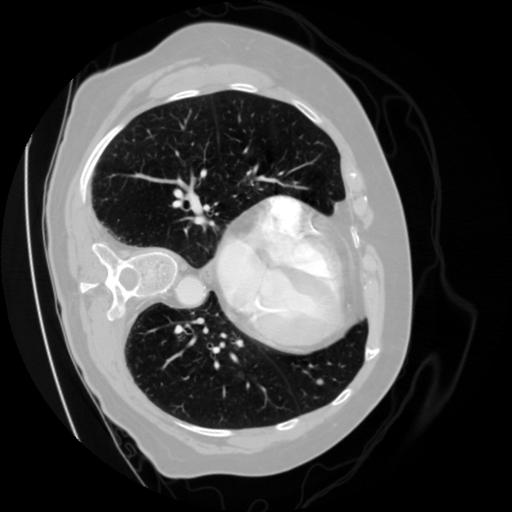nodule: (314, 374, 328, 388)
